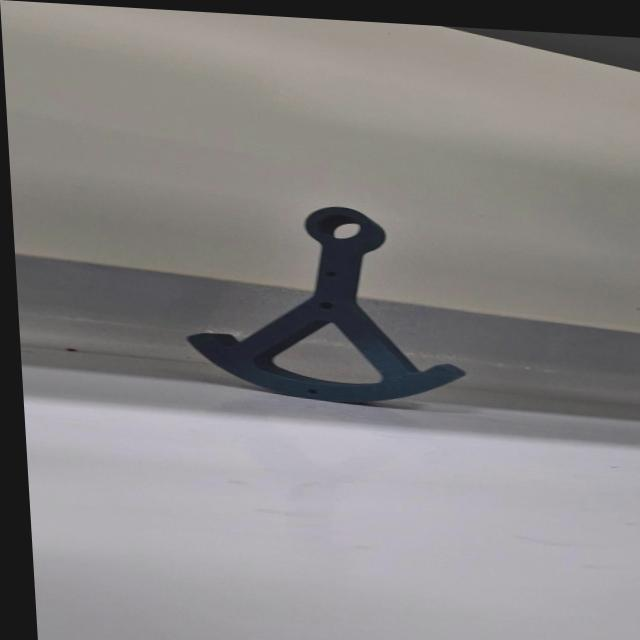haptic: (176, 196, 471, 413)
